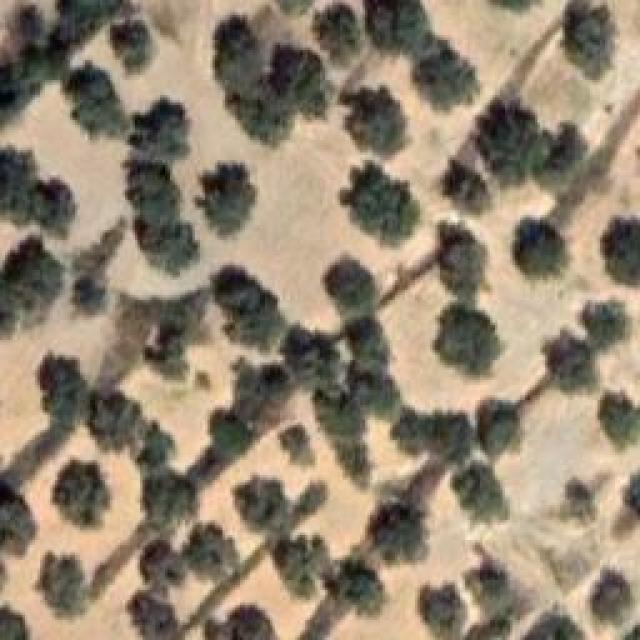Tree: (338, 163, 422, 244), (210, 268, 282, 346), (275, 320, 350, 394), (83, 385, 157, 455), (558, 3, 622, 83), (57, 60, 128, 132), (270, 35, 332, 114), (478, 100, 546, 172), (200, 155, 261, 233), (368, 498, 431, 571), (128, 208, 198, 272), (3, 235, 64, 308), (340, 88, 412, 149), (438, 305, 502, 373), (220, 85, 292, 145), (448, 460, 516, 523), (235, 472, 294, 542), (438, 155, 499, 221), (435, 225, 490, 298), (510, 213, 569, 281), (212, 20, 269, 90), (283, 528, 337, 600), (540, 323, 599, 388), (50, 458, 108, 524), (33, 353, 86, 425), (30, 545, 86, 612), (325, 550, 384, 613), (128, 102, 191, 160), (418, 43, 477, 104), (325, 250, 384, 310), (125, 585, 189, 640), (140, 468, 199, 527), (348, 366, 408, 424), (0, 475, 40, 561), (363, 0, 431, 49), (125, 163, 184, 218), (185, 523, 237, 585), (341, 310, 398, 366), (27, 173, 73, 240), (583, 293, 635, 352), (0, 148, 37, 229), (313, 5, 368, 59), (478, 393, 522, 458), (417, 582, 465, 640), (103, 18, 152, 74), (138, 543, 188, 596), (545, 115, 594, 168), (602, 217, 640, 285), (428, 408, 476, 461), (588, 565, 631, 624), (203, 605, 273, 640), (465, 558, 512, 610), (208, 410, 257, 457), (600, 390, 639, 448), (393, 410, 431, 457), (558, 478, 594, 522), (278, 423, 315, 459), (0, 598, 31, 640), (620, 468, 640, 515)
